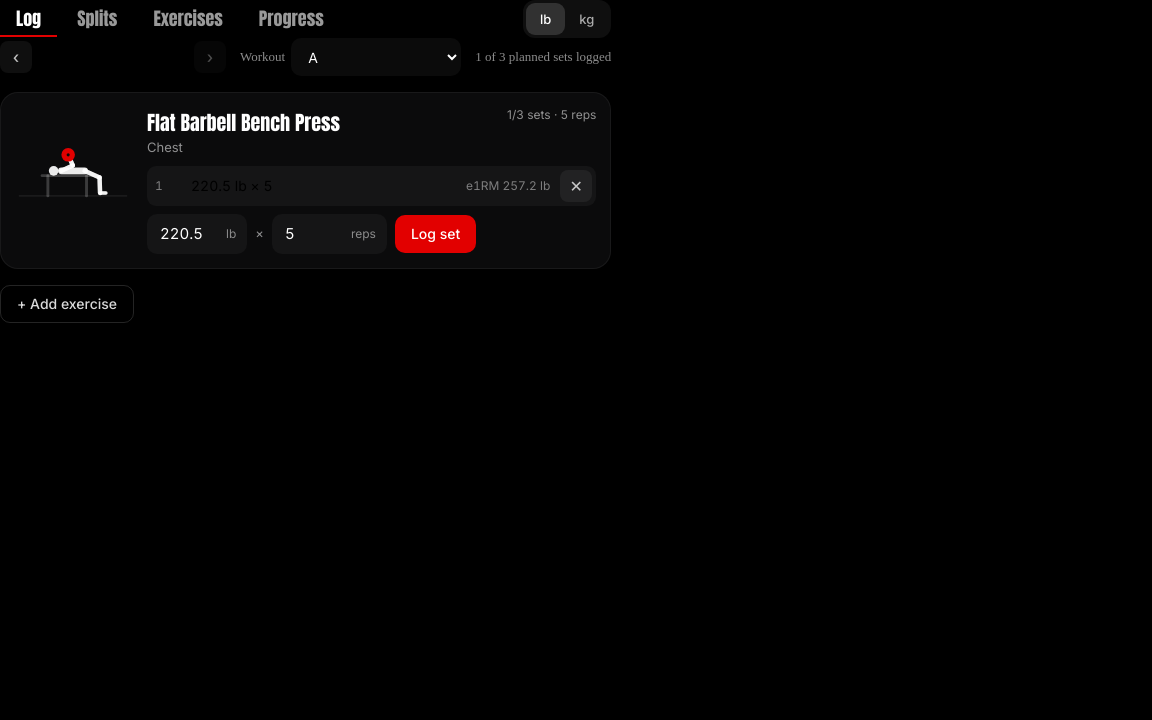
Test: Workouts page › replaces another workout's sets when switching the day
Step 1. Select "B" in the dropdown → (376, 57), box [291, 38, 461, 76]
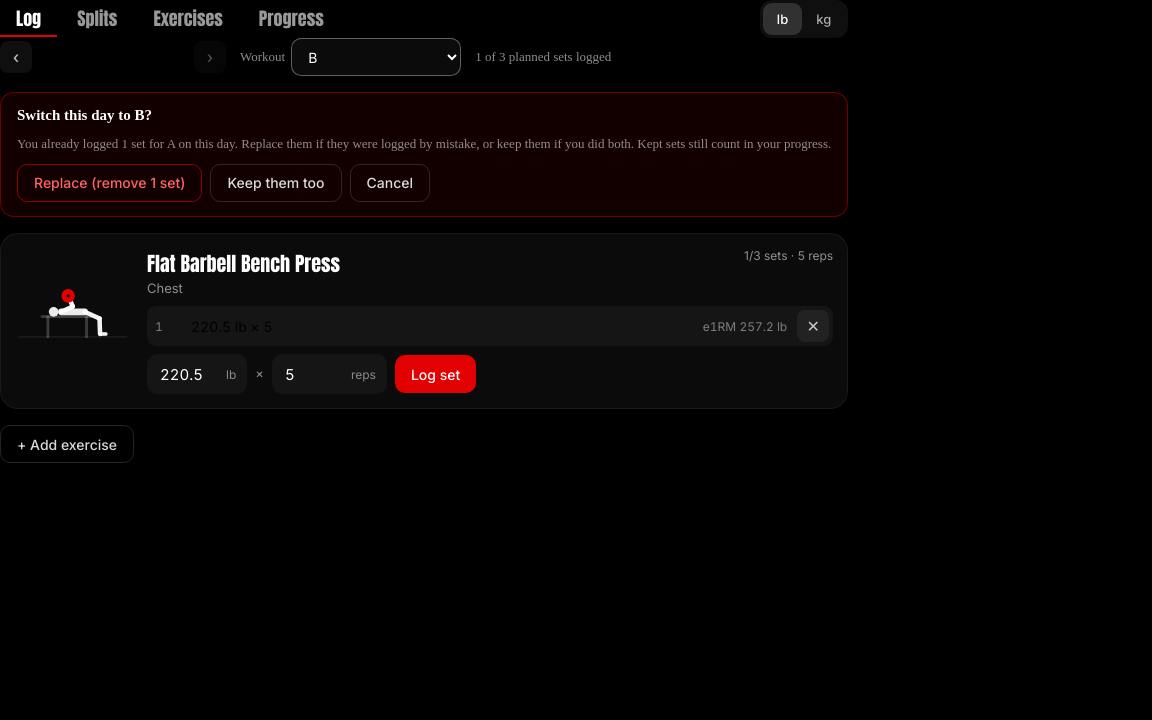
Step 2. Click the button "Replace (remove 1 set)" → (110, 182), box [17, 164, 202, 202]
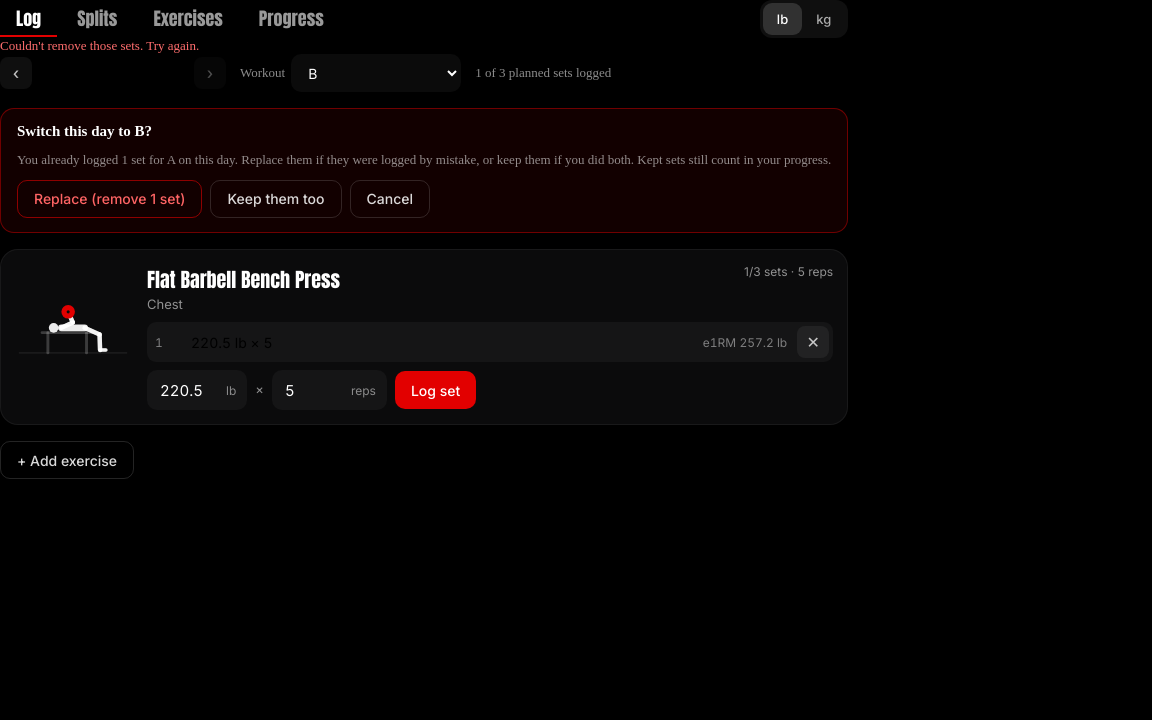
Expected: the message reads "Couldn't remove those sets. Try again.", [0, 38, 199, 53]
Step 3. Click the button "Replace (remove 1 set)" → (110, 198), box [17, 180, 202, 218]
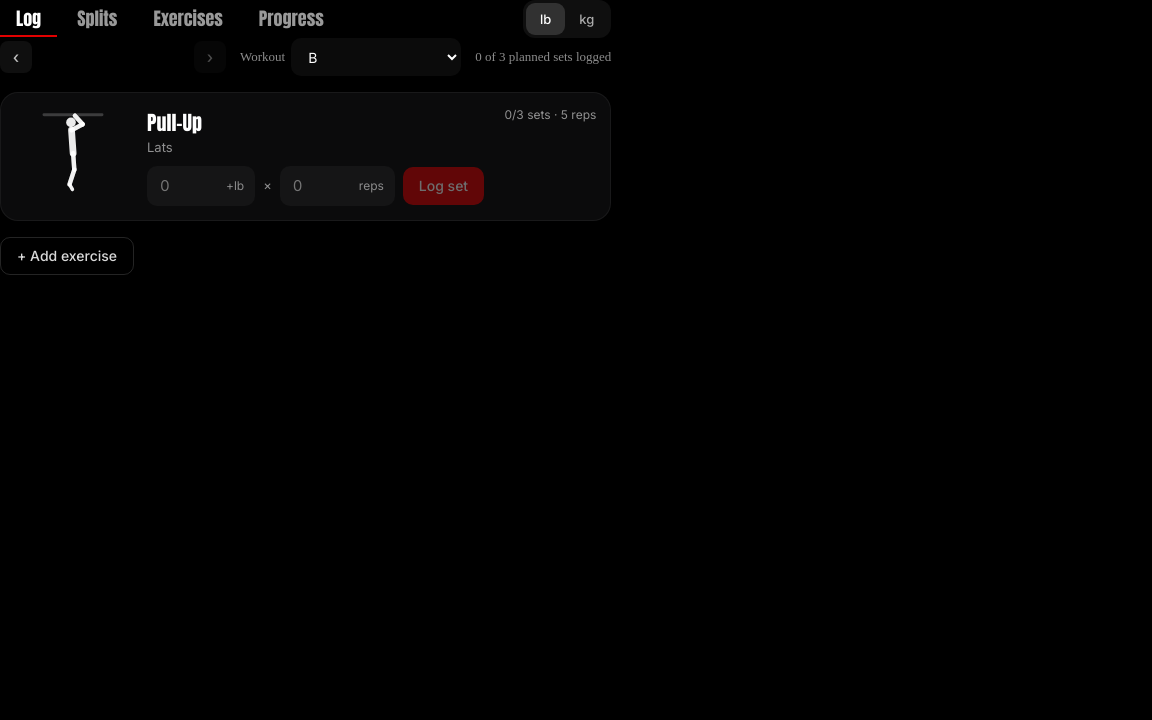
Expected: the dialog is gone
Expected: the heading "Flat Barbell Bench Press" is gone
Expected: the element "Pull-Up" is shown, [0, 92, 611, 220]
